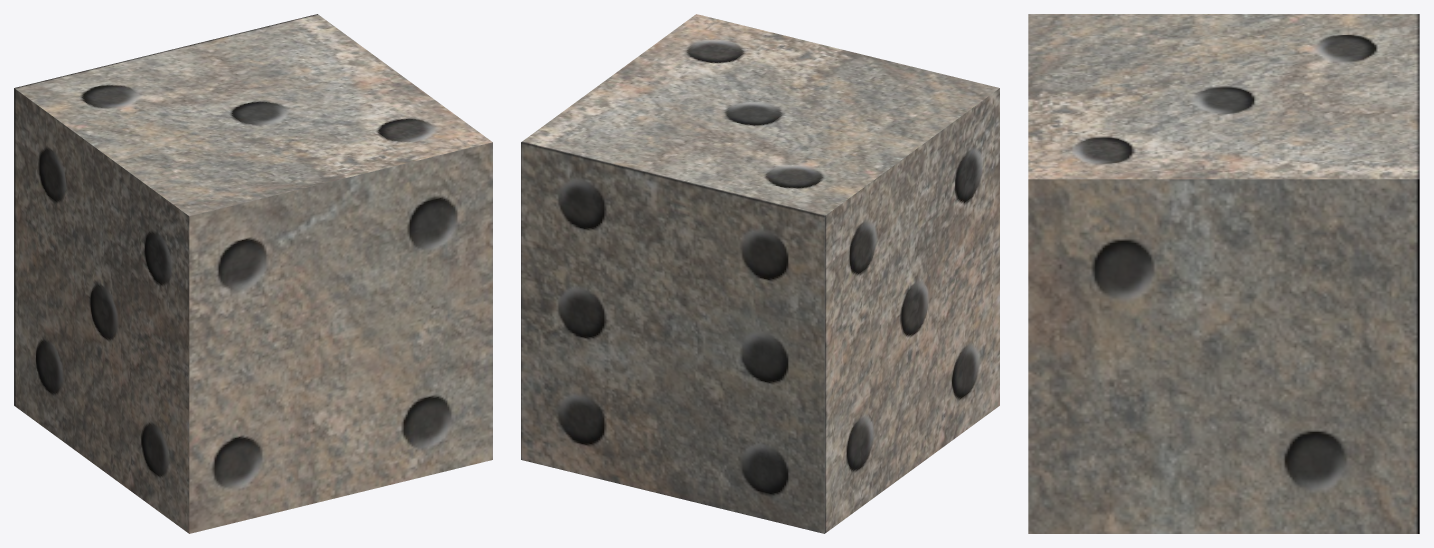
Rendered from dicegltf.glb.
3 renders of one model, left to right at view 1: azimuth 30°, elevation 25°; view 2: azimuth 150°, elevation 25°; view 3: azimuth 270°, elevation 25°, orthographic. The views are drawn at different scales.
Parts seen in each view (by area): view 1: dice_2; view 2: dice_2; view 3: dice_2.
Part boxes in pixels (box(x1,y1,x2,y2)): dice_2: box(14, 14, 492, 533); dice_2: box(521, 14, 999, 533); dice_2: box(1028, 14, 1419, 533).
Bounding box in the file's own units: 11.18 × 13.02 × 11.18.
Materials: 2 (1 with a texture image).
